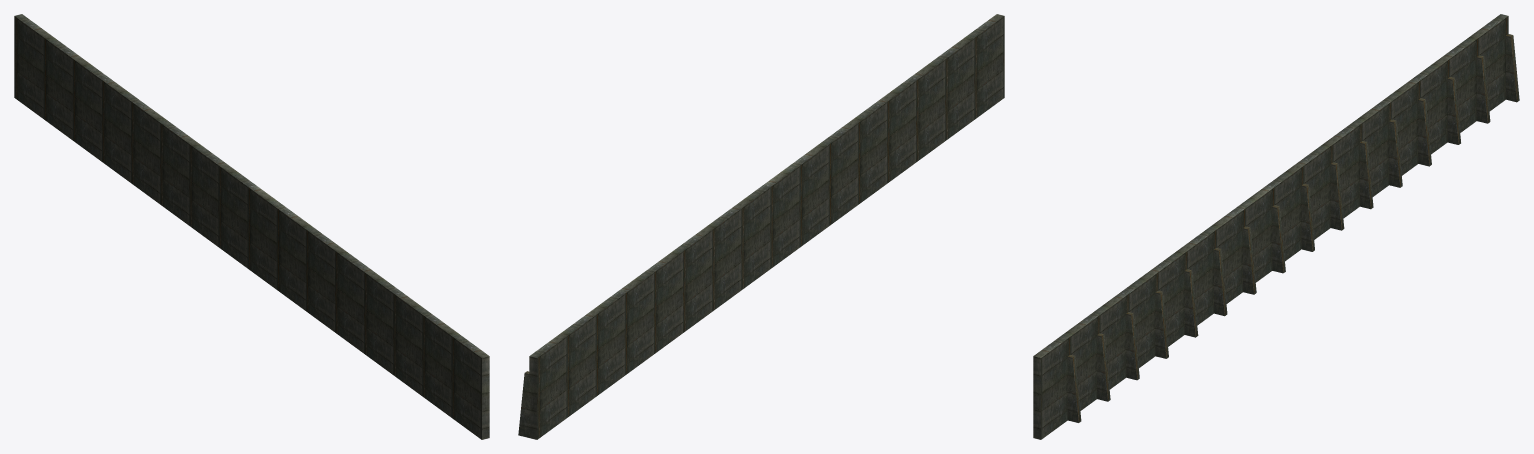
File: BLOCK_8BONE.glb
3 views of the same model, side by side, from view 1: azimuth 30°, elevation 25°; view 2: azimuth 150°, elevation 25°; view 3: azimuth 330°, elevation 25° (orthographic).
Visible parts, largest first — view 1: block1; view 2: block1, block_bone0; view 3: block1, block_bone3, block_bone1, block_bone0, block_bone7, block_bone6, block_bone5, block_bone4, block_bone2.
Boxes of the visible parts, <box> form: block1: <box>14,14,489,439</box>; block1: <box>529,14,1004,439</box>; block_bone0: <box>518,371,530,437</box>; block1: <box>1033,14,1508,439</box>; block_bone3: <box>1301,162,1344,251</box>; block_bone1: <box>1418,76,1460,166</box>; block_bone0: <box>1476,34,1519,123</box>; block_bone7: <box>1067,333,1110,422</box>; block_bone6: <box>1126,290,1168,380</box>; block_bone5: <box>1184,248,1227,337</box>; block_bone4: <box>1243,205,1285,294</box>; block_bone2: <box>1360,119,1402,209</box>.
Size of the model in its own units: 2.33 by 9.67 by 100.
9 materials, 9 textured.
